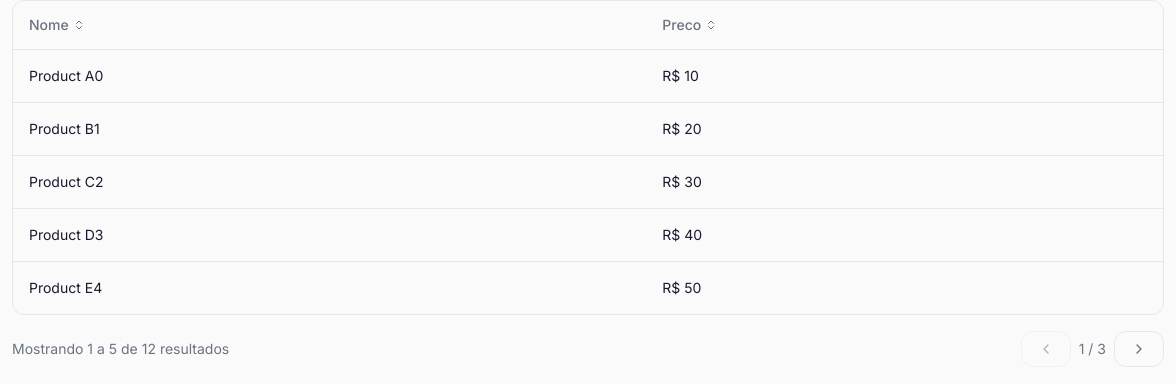
DataTable › Pagination › should navigate to next page on Next click
The width and height of the screenshot is (1176, 384).
Find the right arrow button (last navigation button)
Click the 4th button. click: click(1139, 348)
box: left=1114, top=330, right=1164, bottom=366
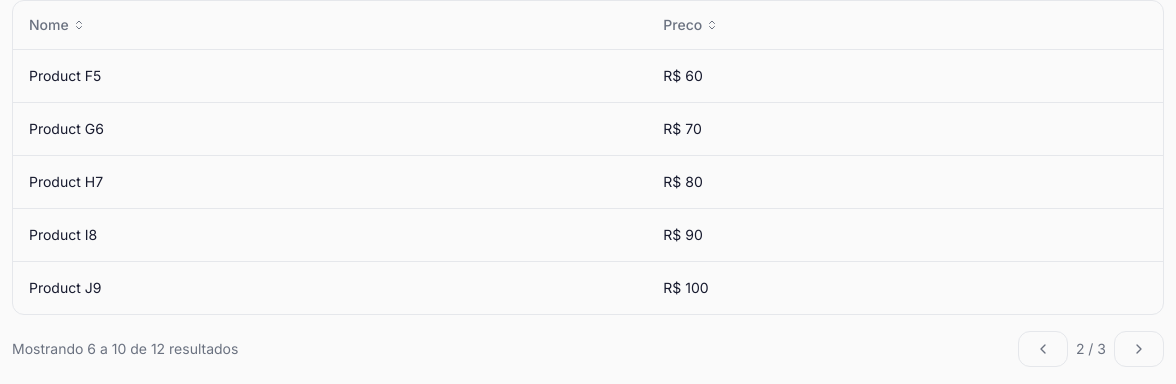
Check: the text "2 / 3" is shown, box left=1076, top=338, right=1106, bottom=358
Check: the text "Mostrando 6 a 10 de 12 resultados" is shown, box left=12, top=338, right=238, bottom=358
